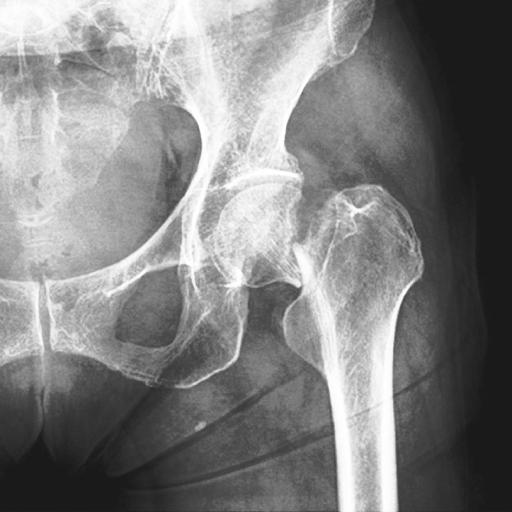neck: (282, 182, 425, 437), (212, 182, 307, 288)
